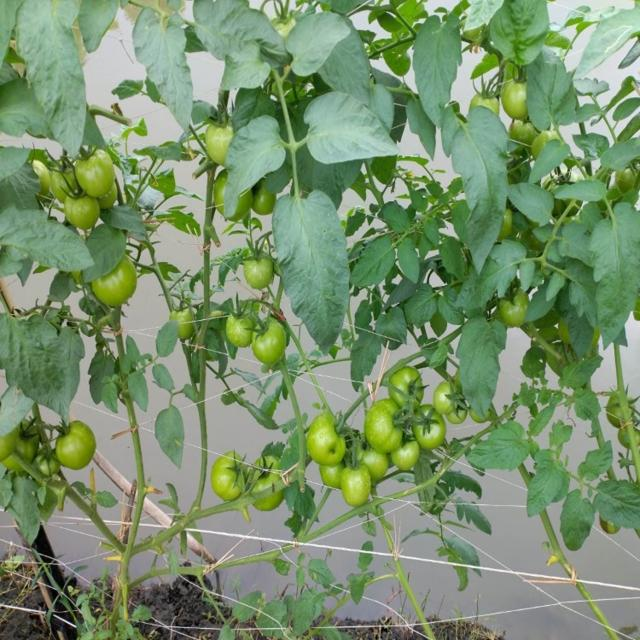tomato: (256, 312, 298, 373), (246, 453, 290, 508), (96, 253, 137, 310), (364, 400, 406, 453), (80, 147, 122, 199), (47, 154, 89, 205), (212, 171, 256, 218), (61, 418, 98, 471), (429, 377, 472, 421), (1, 423, 36, 477), (307, 414, 346, 462), (502, 76, 544, 120), (210, 455, 246, 505), (343, 458, 378, 509), (408, 403, 446, 446), (387, 370, 429, 408), (167, 301, 208, 339), (206, 114, 235, 164), (496, 286, 534, 324), (64, 195, 98, 234), (355, 438, 386, 480), (241, 252, 276, 289), (266, 12, 306, 42), (228, 308, 254, 343), (321, 458, 346, 493), (508, 123, 537, 153), (605, 393, 633, 422), (395, 432, 415, 472), (528, 135, 568, 154), (489, 203, 511, 237), (256, 181, 278, 215), (98, 182, 120, 210), (472, 86, 494, 113), (38, 455, 56, 485), (618, 425, 640, 448), (31, 157, 49, 180)
